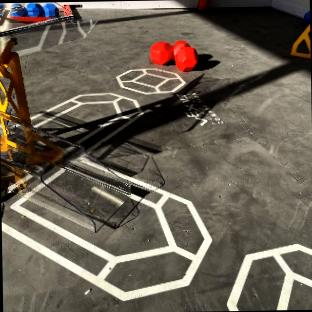V5_RED: (149, 39, 196, 69)
